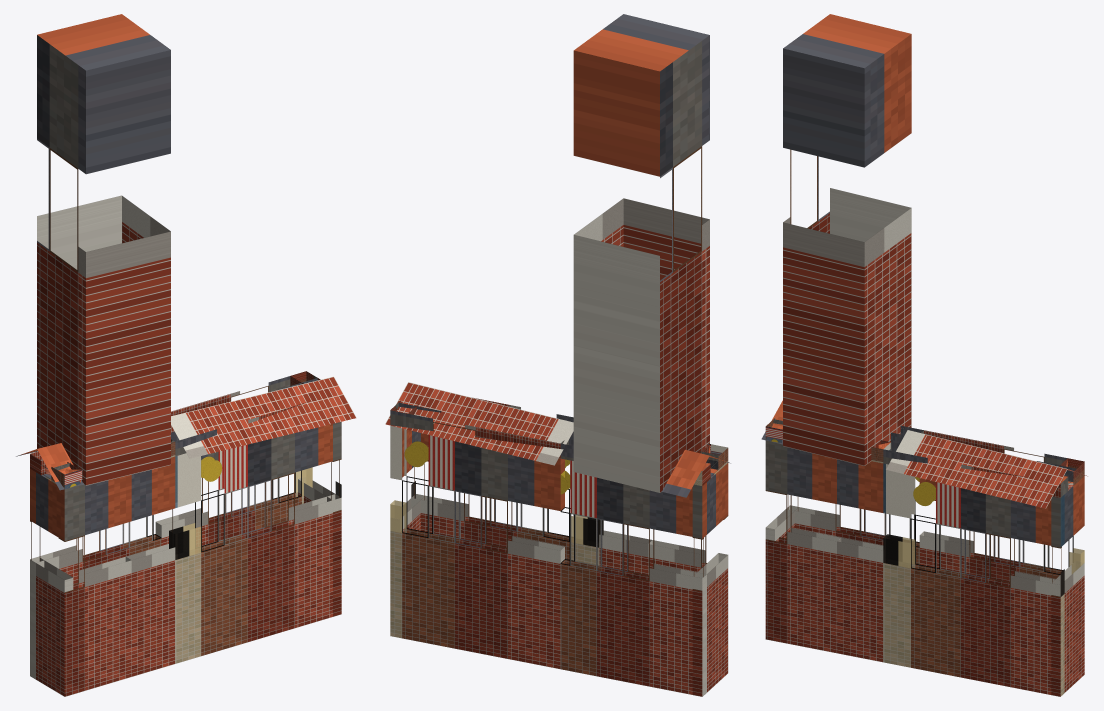
The picture shows the model from 3 angles, left to right: view 1: azimuth 30°, elevation 25°; view 2: azimuth 150°, elevation 25°; view 3: azimuth 330°, elevation 25°; orthographic projection. The views are drawn at different scales.
Parts seen in each view (by area): view 1: 238531846__chimney_0_xb, 238531846__wall_5_xb, 238531846__wall_3_xb, 238531846_roof_-1_xb, 238531846__wall_4_xb, 238531846__wall_2_xb, 238531846__wall_0_xb, 238531846__wall_1_xb, 238531846__wall_6_xb, 238531846__wall_5_xf, 238531846__cornice_0, 238531846__cornice_5; view 2: 238531846__chimney_0_xb, 238531846__wall_0_xb, 238531846__wall_1_xb, 238531846_roof_1_xb, 238531846__wall_2_xb, 238531846__wall_5_xb, 238531846__wall_4_xb, 238531846__cornice_0, 238531846__wall_3_xb, 238531846__wall_6_xb, 238531846__wall_5_xf; view 3: 238531846__chimney_0_xb, 238531846__wall_5_xb, 238531846__wall_3_xb, 238531846__wall_4_xb, 238531846_roof_-1_xb, 238531846__wall_6_xb, 238531846__wall_0_xb, 238531846__wall_1_xb, 238531846__wall_5_xf, 238531846__cornice_0, 238531846__cornice_5, 238531846__wall_2_xb.
Part boxes in pixels (x1=…): 238531846__chimney_0_xb: x1=37, y1=14, x2=170, y2=485; 238531846__wall_5_xb: x1=169, y1=424, x2=341, y2=663; 238531846__wall_3_xb: x1=58, y1=474, x2=131, y2=696; 238531846_roof_-1_xb: x1=37, y1=376, x2=356, y2=490; 238531846__wall_4_xb: x1=126, y1=456, x2=175, y2=676; 238531846__wall_2_xb: x1=30, y1=472, x2=73, y2=696; 238531846__wall_0_xb: x1=155, y1=452, x2=312, y2=546; 238531846__wall_1_xb: x1=30, y1=469, x2=161, y2=679; 238531846__wall_6_xb: x1=298, y1=422, x2=341, y2=616; 238531846__wall_5_xf: x1=169, y1=456, x2=340, y2=559; 238531846__cornice_0: x1=171, y1=375, x2=317, y2=432; 238531846__cornice_5: x1=171, y1=402, x2=307, y2=456; 238531846__chimney_0_xb: x1=573, y1=14, x2=709, y2=492; 238531846__wall_0_xb: x1=390, y1=425, x2=564, y2=669; 238531846__wall_1_xb: x1=560, y1=460, x2=706, y2=696; 238531846_roof_1_xb: x1=385, y1=382, x2=709, y2=497; 238531846__wall_2_xb: x1=692, y1=463, x2=728, y2=696; 238531846__wall_5_xb: x1=411, y1=433, x2=603, y2=565; 238531846__wall_4_xb: x1=599, y1=530, x2=652, y2=574; 238531846__cornice_0: x1=390, y1=402, x2=560, y2=458; 238531846__wall_3_xb: x1=648, y1=515, x2=728, y2=575; 238531846__wall_6_xb: x1=391, y1=428, x2=424, y2=532; 238531846__wall_5_xf: x1=412, y1=481, x2=603, y2=546; 238531846__chimney_0_xb: x1=783, y1=14, x2=911, y2=465; 238531846__wall_5_xb: x1=883, y1=463, x2=1064, y2=696; 238531846__wall_3_xb: x1=765, y1=440, x2=840, y2=653; 238531846__wall_4_xb: x1=837, y1=459, x2=885, y2=662; 238531846_roof_-1_xb: x1=761, y1=400, x2=1067, y2=508; 238531846__wall_6_xb: x1=1051, y1=476, x2=1084, y2=696; 238531846__wall_0_xb: x1=919, y1=478, x2=1084, y2=581; 238531846__wall_1_xb: x1=786, y1=477, x2=919, y2=564; 238531846__wall_5_xf: x1=883, y1=464, x2=1064, y2=595; 238531846__cornice_0: x1=921, y1=430, x2=1076, y2=481; 238531846__cornice_5: x1=883, y1=442, x2=1068, y2=497; 238531846__wall_2_xb: x1=765, y1=495, x2=798, y2=541.
Bounding box in the file's own units: 0.524 × 1.05 × 0.15.
Materials: 1 (1 with a texture image).
